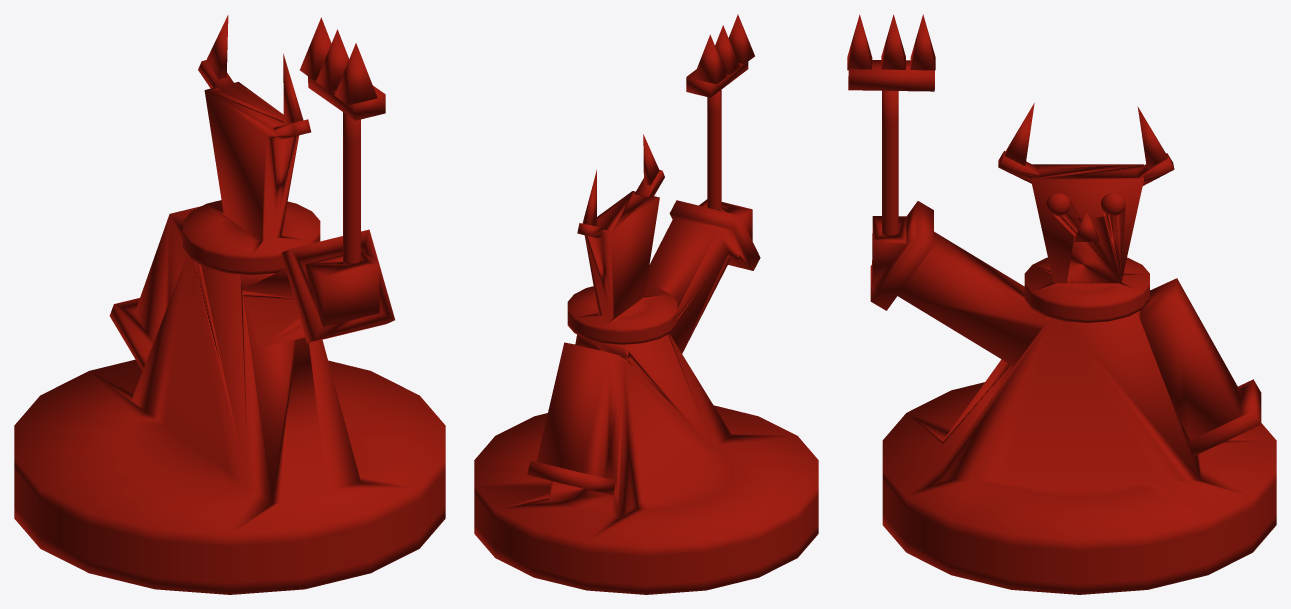
File: Devin the Devil.obj
3 renders of one model, left to right at view 1: azimuth 30°, elevation 25°; view 2: azimuth 150°, elevation 25°; view 3: azimuth 270°, elevation 25°, orthographic. The views are drawn at different scales.
Visible parts, largest first — view 1: Cylinder027; view 2: Cylinder027; view 3: Cylinder027.
Boxes of the visible parts, x1,y1,x2,y2 form: Cylinder027: [14, 15, 445, 594]; Cylinder027: [474, 14, 818, 594]; Cylinder027: [847, 14, 1276, 594].
Bounding box in the file's own units: 20.67 × 28.45 × 22.18.
